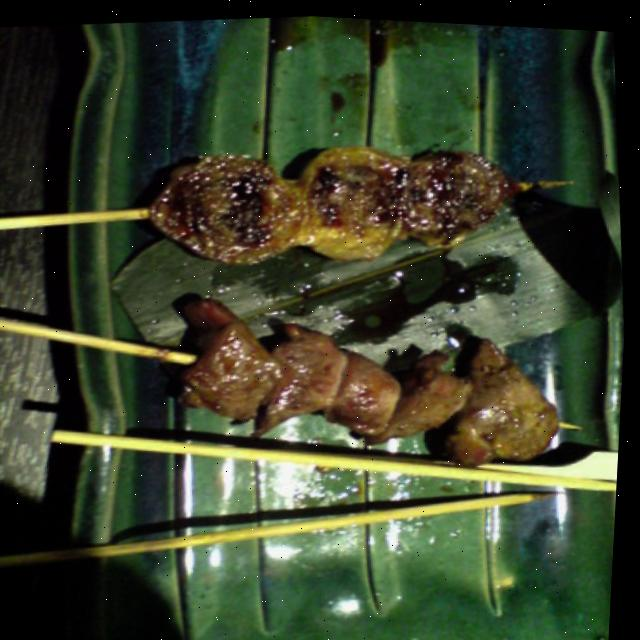烧串烤肉: (0, 99, 616, 478)
